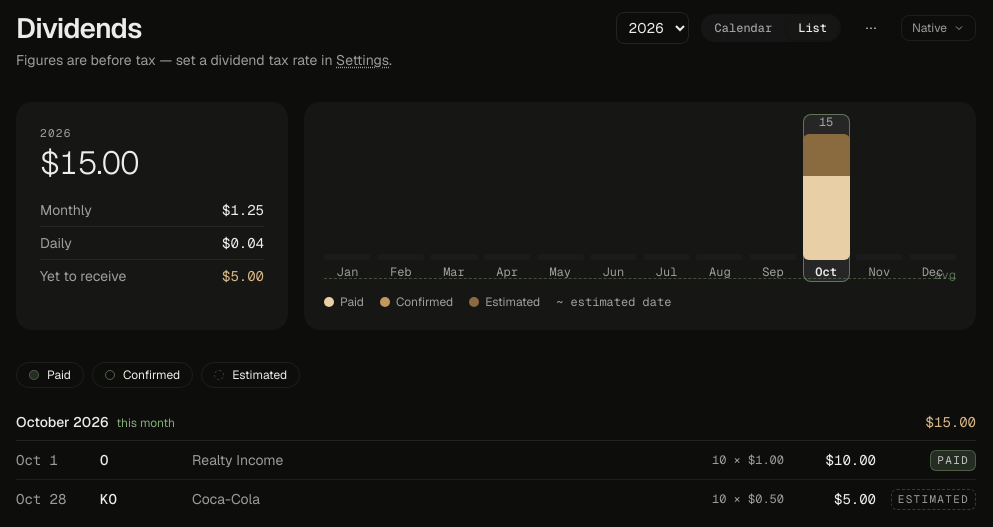
it: DividendsPage › moves the hero, the bar and the month subtotal together on a status toggle
expect the text with test id "year-total" reads "$15.00": met, box [40,142,139,183]
Click the button "Estimated".
click(251, 375)  # box [201,362,300,388]
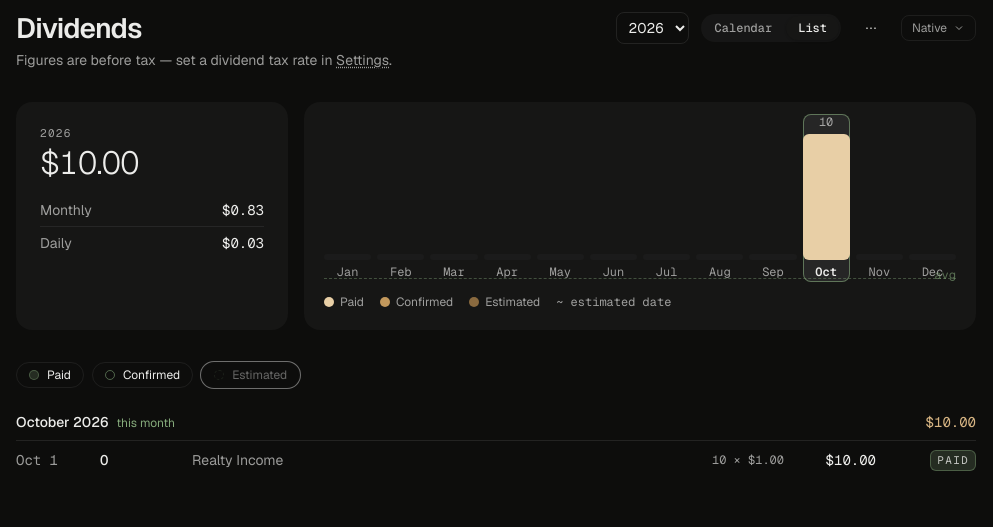
expect the text with test id "year-total" reads "$10.00": met, box [40,142,139,183]
expect the text "Coca-Cola" is gone: met
